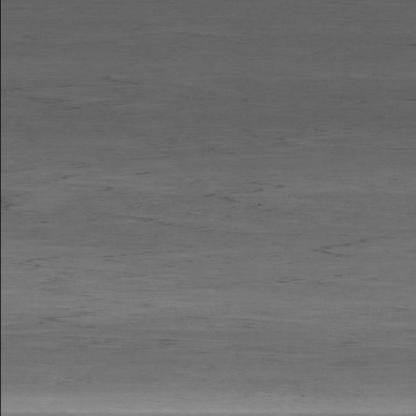silk_spot: (10, 138, 370, 300)
